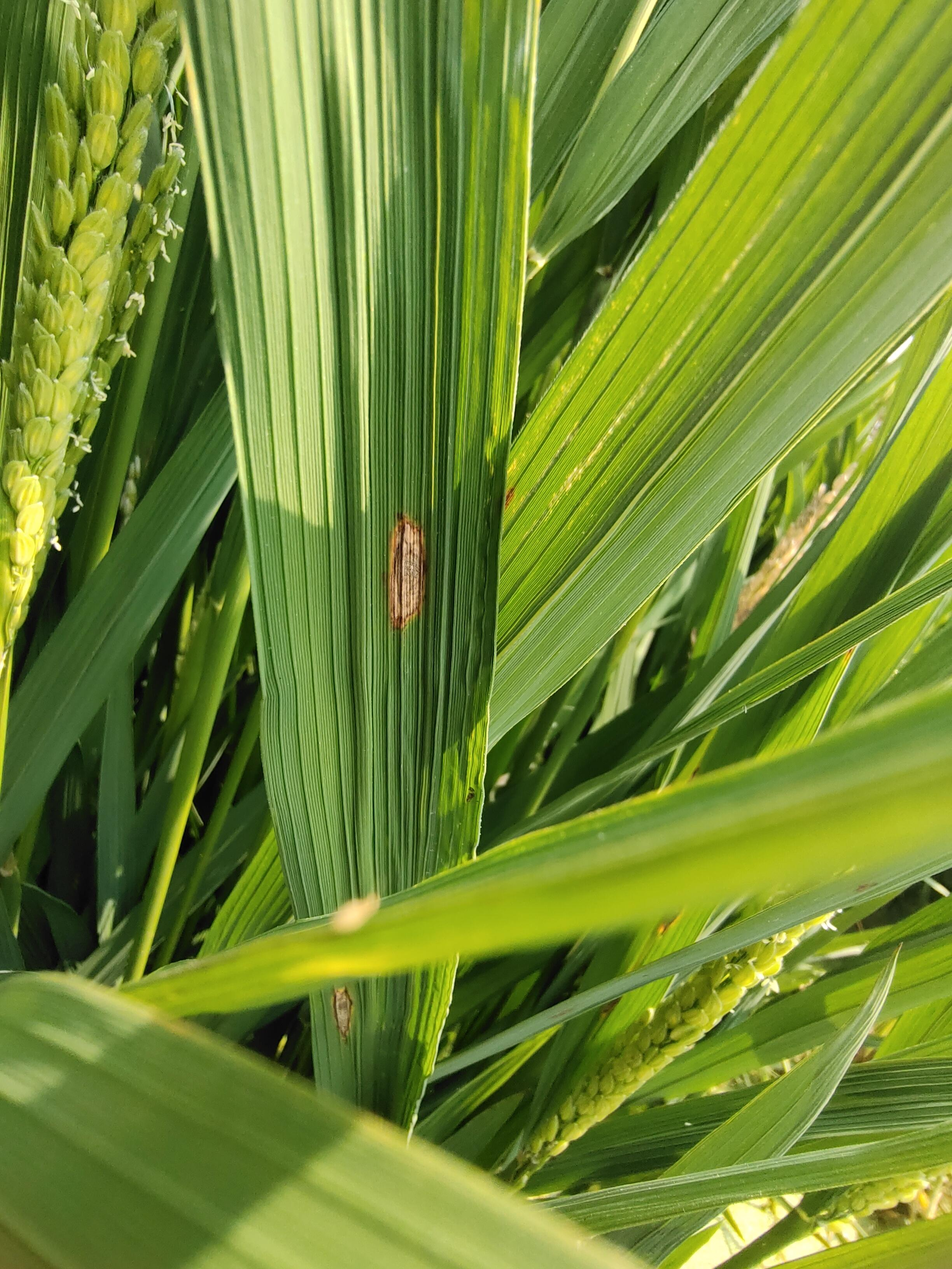LEAF: (182, 1, 543, 1137)
LEAF BLAST: (388, 515, 425, 629), (332, 987, 353, 1040)
